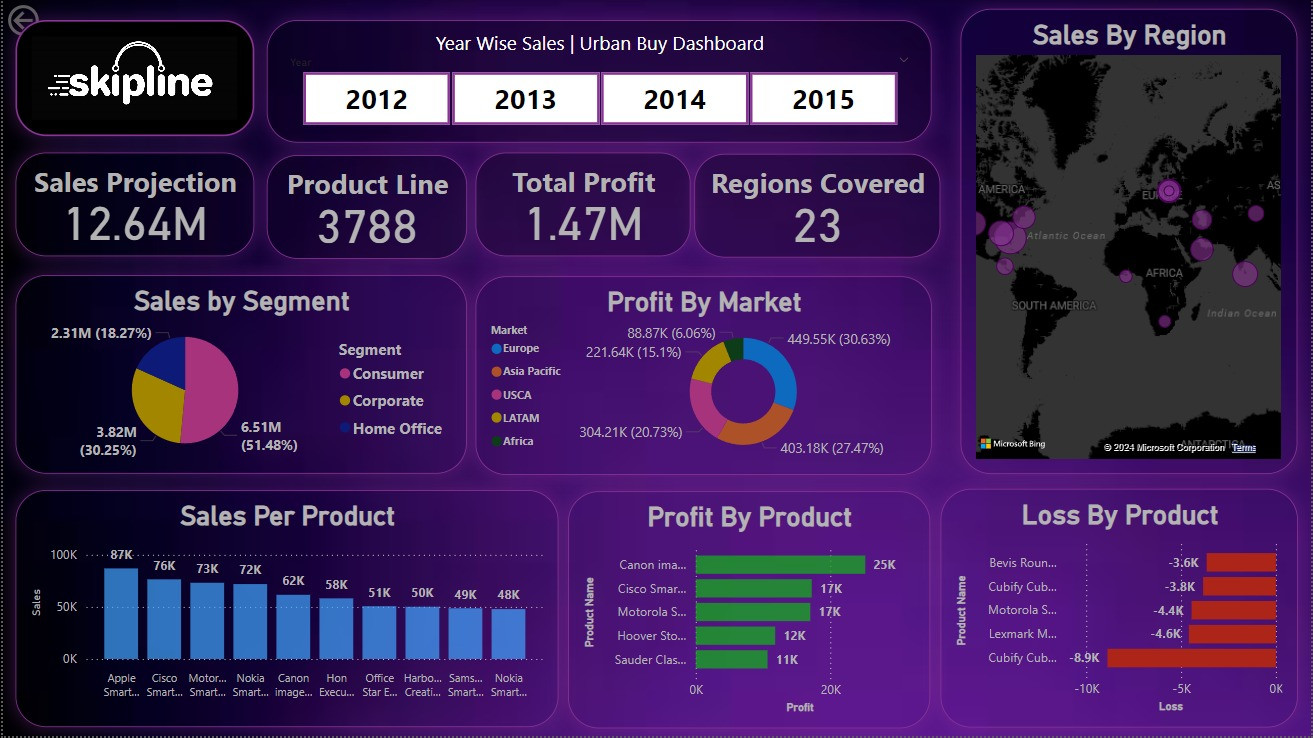

What the dashboard file says about the page in this screenshot:
{"tool":"powerbi","page":{"name":"Report","canvas":[1280,720],"ordinal":0},"visuals":[{"type":"slicer","title":"Year Wise Sales | SkipLine Dashboard","fields":{"Values":["Orders.Year"]},"box":[258,19.6,650.5,119.8],"z":0},{"type":"card","title":"Sales Projection","fields":{"Values":["Sum(Orders.Sales)"]},"box":[12.3,149.6,233.3,101.5],"z":4},{"type":"card","title":"Regions Covered","fields":{"Values":["Count(Orders.Region)"]},"box":[676.2,150.4,240.9,101.5],"z":5},{"type":"card","title":"Total Profit","fields":{"Values":["Sum(Orders.Profit)"]},"box":[462.2,149.2,210.3,101.5],"z":6},{"type":"card","title":"Product Line","fields":{"Values":["Count(Orders.Product Name)"]},"box":[258,151.6,195.7,101.5],"z":7},{"type":"actionButton","box":[0,0,100,40],"z":8},{"type":"pieChart","title":"Sales by Segment","fields":{"Category":["Orders.Segment"],"Y":["Sum(Orders.Sales)"]},"box":[12.2,269,441.4,194.4],"z":9},{"type":"donutChart","title":"Profit By Market","fields":{"Y":["Sum(Orders.Profit)"],"Category":["Orders.Market"]},"box":[462.2,270.2,446.3,194.4],"z":10},{"type":"columnChart","title":"Sales Per Product","fields":{"Y":["Sum(Orders.Sales)"],"Category":["Orders.Product Name"]},"box":[12.3,478.9,531,231.9],"z":13},{"type":"clusteredBarChart","title":"Profit By Product","fields":{"Category":["Orders.Product Name"],"Y":["Sum(Orders.Profit)"]},"box":[553,480.3,354,231.9],"z":14},{"type":"clusteredBarChart","title":"Loss By Product","fields":{"Category":["Orders.Product Name"],"Y":["Sum(Orders.Profit)"]},"box":[916.6,477.5,349.9,233.3],"z":15},{"type":"map","title":"Sales By Region","fields":{"Size":["Sum(Orders.Sales)"],"Category":["Orders.Region"]},"box":[937.2,8.2,329.3,455.6],"z":16},{"type":"image","box":[12.2,19.6,233.6,113.7],"z":17}]}

Visuals, with their boxes in screenshot pixels (x1, y1, x2, y2), scaled from the page's 1280x720 canvas onto the 1313x738 screenshot:
"Year Wise Sales | SkipLine Dashboard" slicer: (265,20,932,143)
"Sales Projection" card: (13,153,252,257)
"Regions Covered" card: (694,154,941,258)
"Total Profit" card: (474,153,690,257)
"Product Line" card: (265,155,465,259)
actionButton: (0,0,103,41)
"Sales by Segment" pieChart: (13,276,465,475)
"Profit By Market" donutChart: (474,277,932,476)
"Sales Per Product" columnChart: (13,491,557,729)
"Profit By Product" clusteredBarChart: (567,492,930,730)
"Loss By Product" clusteredBarChart: (940,489,1299,729)
"Sales By Region" map: (961,8,1299,475)
image: (13,20,252,137)
